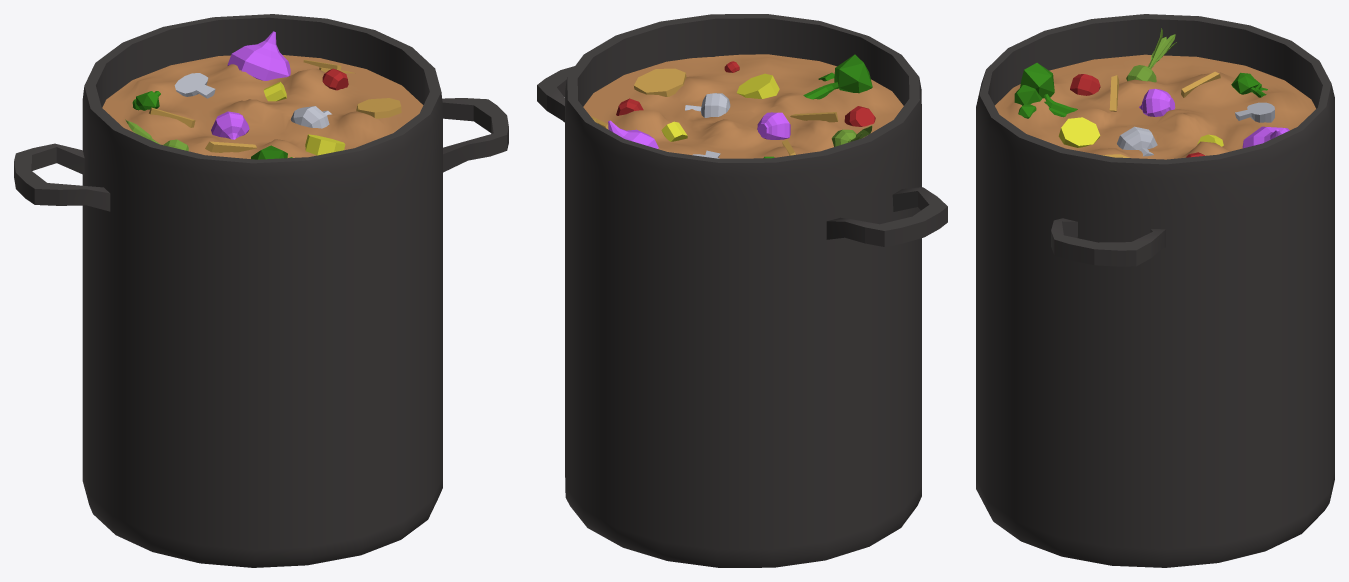
The model's file is pot_small.fbx.
3 renders of one model, left to right at view 1: azimuth 30°, elevation 25°; view 2: azimuth 150°, elevation 25°; view 3: azimuth 270°, elevation 25°, orthographic.
Parts seen in each view (by area): view 1: Pot.002; view 2: Pot.002; view 3: Pot.002.
Boxes of the visible parts, bbox=[...] form: Pot.002: bbox=[14, 14, 508, 567]; Pot.002: bbox=[537, 14, 947, 567]; Pot.002: bbox=[976, 14, 1334, 567].
Bounding box in the file's own units: 413 × 370 × 298.
